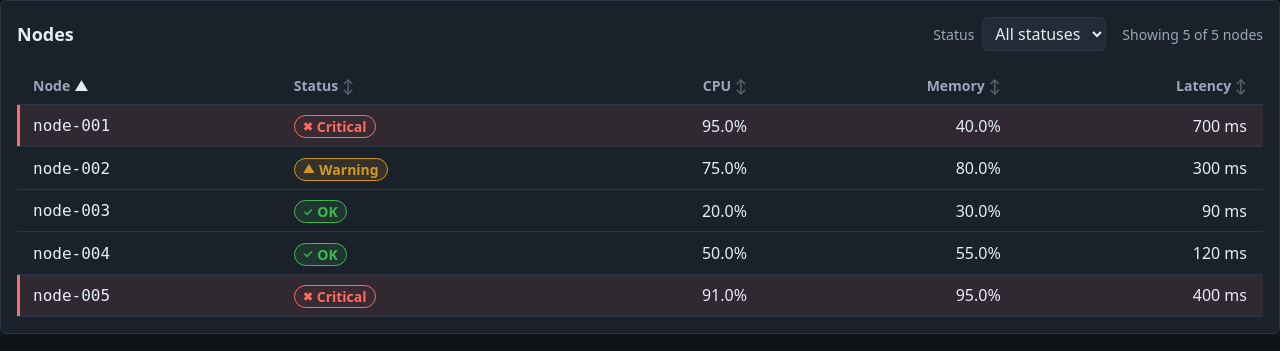
it: NodesPanel › filters to critical nodes only
Select "Critical" in the dropdown labelled "Status". click: (1044, 34)
box: [982, 17, 1106, 51]
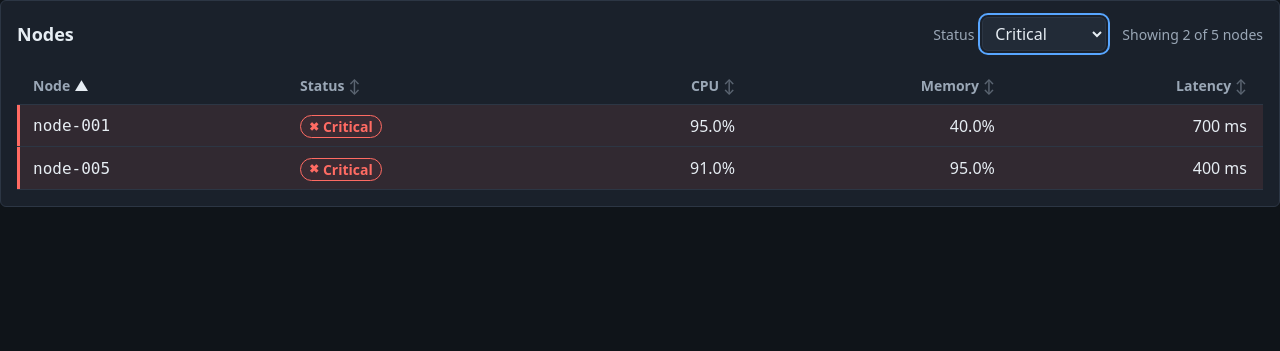
Expected: the text "Critical" is shown, [323, 117, 373, 136]
Result: the text "Showing 2 of 5 nodes" is shown at [1122, 24, 1263, 44]
